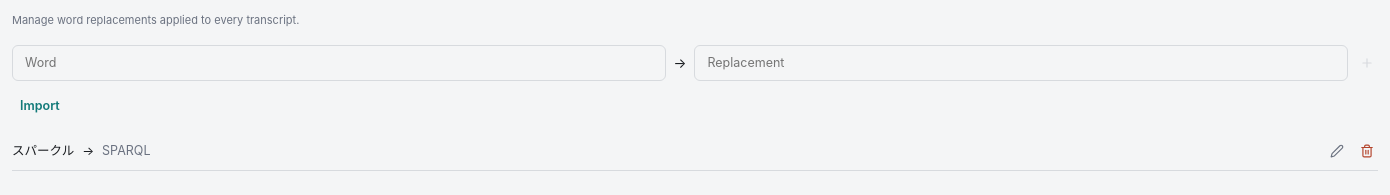
it: DictionarySection › saving an edit flashes a checkmark next to the row (user-reported: silent otherwise)
Expected: the text "スパークル" is shown, [12,142,74,160]
Click the button named "Edit entry": (1337, 151) [1326,140,1348,162]
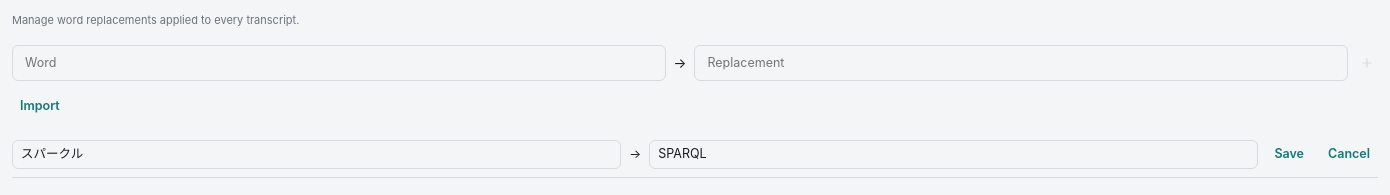
Replace the text in the field named "Replacement" with "SPARQL-updated": (954, 154) [649,140,1258,169]
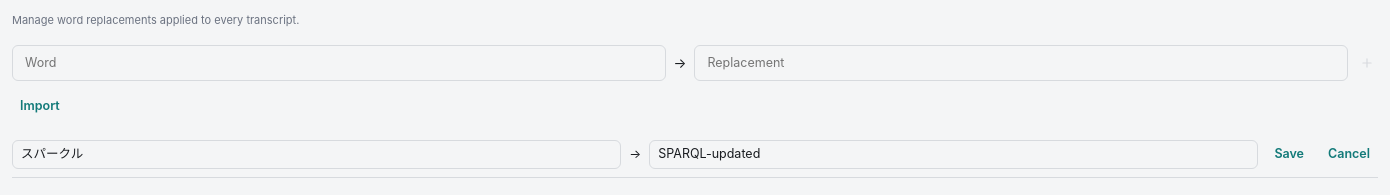
Click the button "Save": (1289, 154) [1266,141,1312,168]
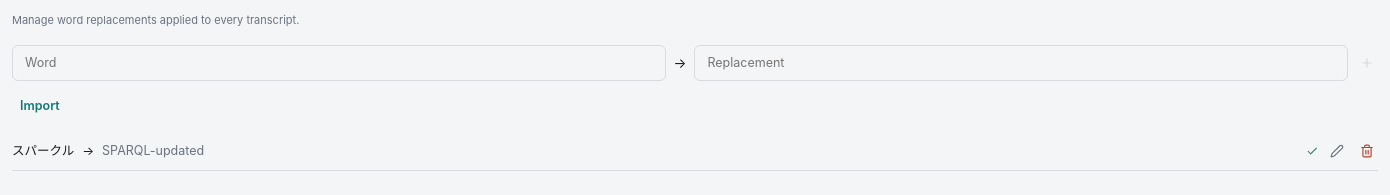
Now the icon with class "dictionary-saved-check" is shown, box [1306,145,1318,157]
